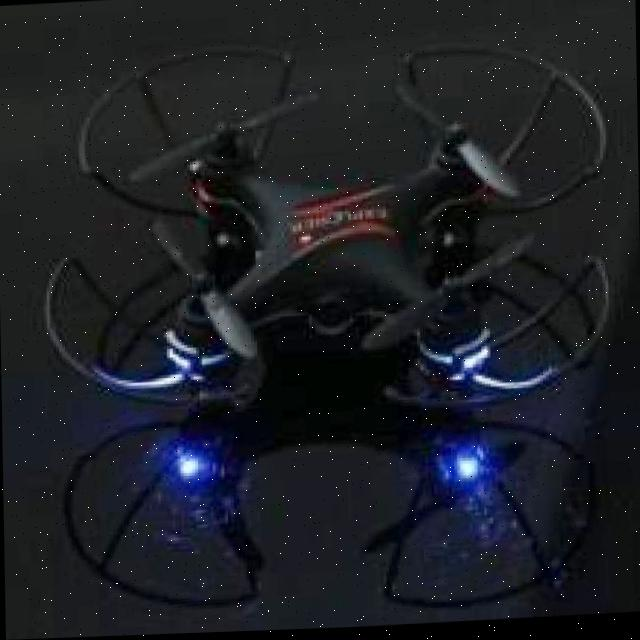drone: (14, 26, 640, 444)
